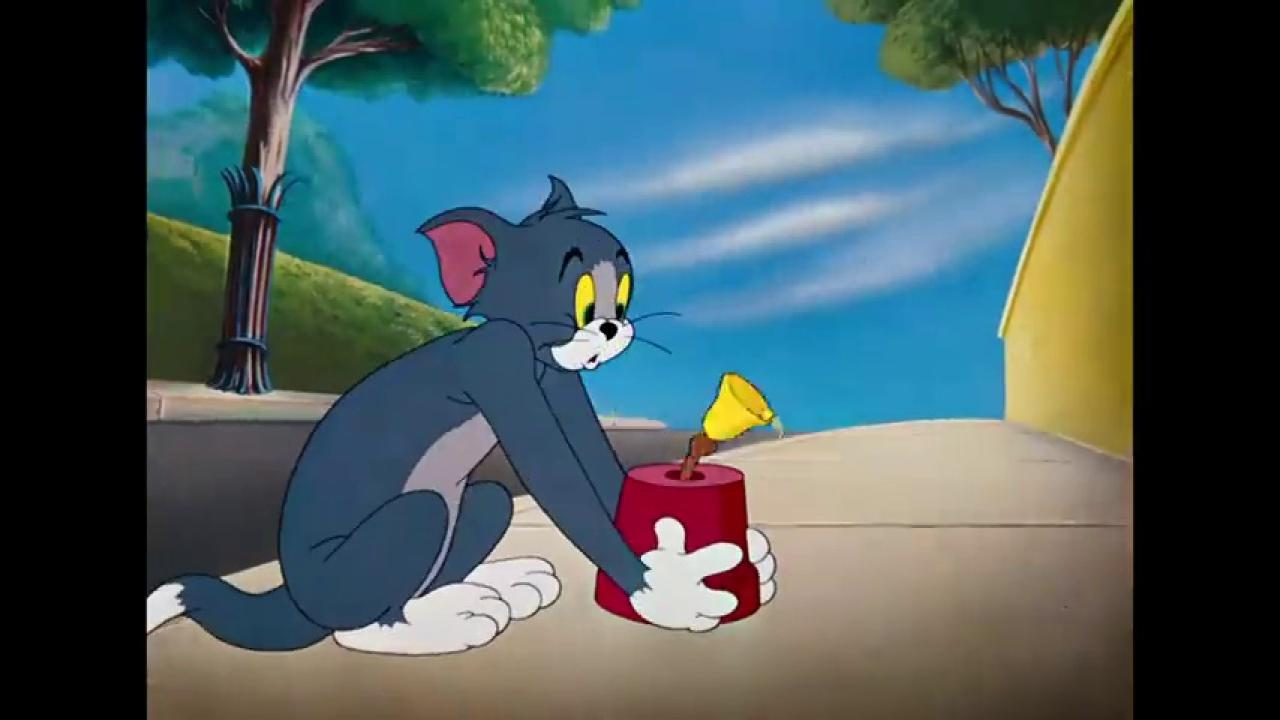Tom: (147, 171, 780, 658)
